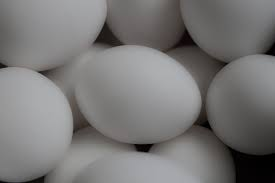eggs: (85, 47, 197, 146), (0, 61, 80, 172), (0, 0, 103, 64), (96, 0, 190, 70), (219, 46, 275, 148), (178, 0, 270, 60), (158, 126, 238, 183)
